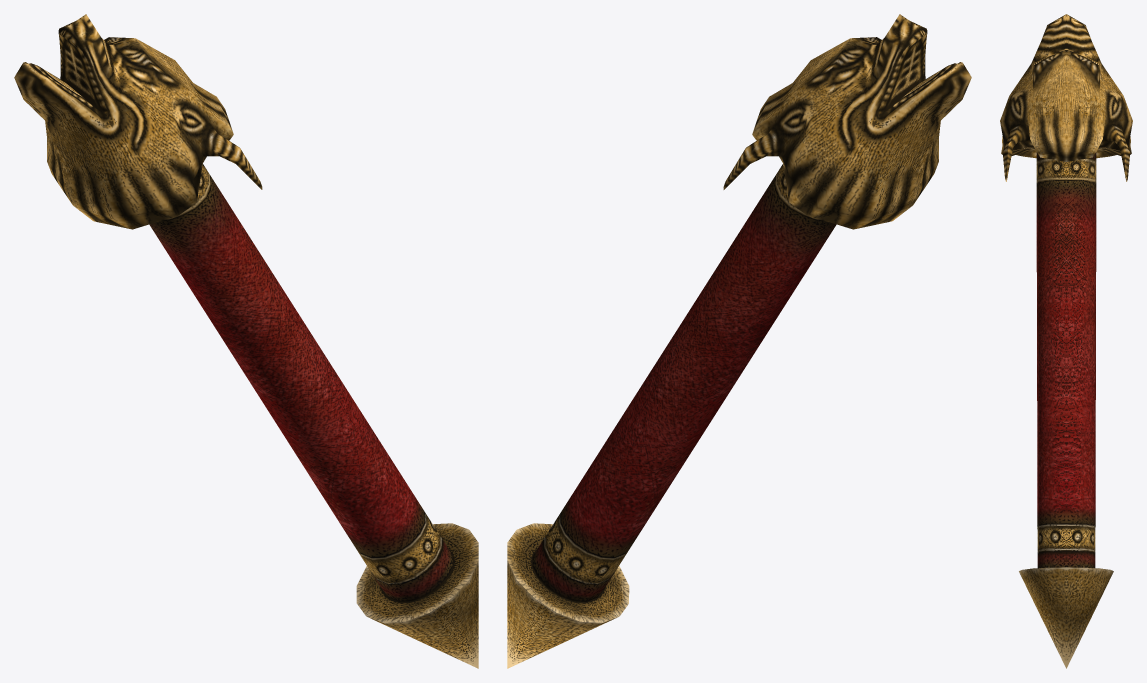
The model's file is BACK_DRAGON_CANE.fbx.
3 renders of one model, left to right at view 1: azimuth 30°, elevation 25°; view 2: azimuth 150°, elevation 25°; view 3: azimuth 270°, elevation 25°, orthographic. The views are drawn at different scales.
Parts seen in each view (by area): view 1: BACK_DRAGON_CANE; view 2: BACK_DRAGON_CANE; view 3: BACK_DRAGON_CANE.
Boxes of the visible parts, box(x1,y1,x2,y2) form: BACK_DRAGON_CANE: box(14, 14, 478, 668); BACK_DRAGON_CANE: box(507, 14, 971, 668); BACK_DRAGON_CANE: box(1000, 14, 1132, 668).
Size of the model in its own units: 0.0444 by 0.0685 by 0.0158.
